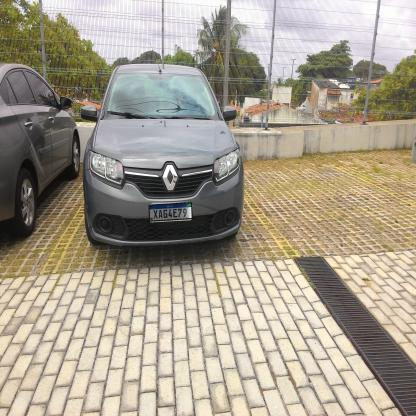PlacaM: (149, 202, 192, 222)
